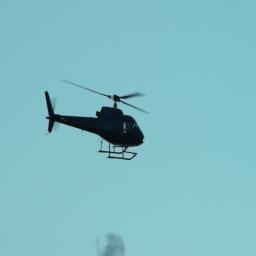helicopter: (40, 77, 151, 166)
